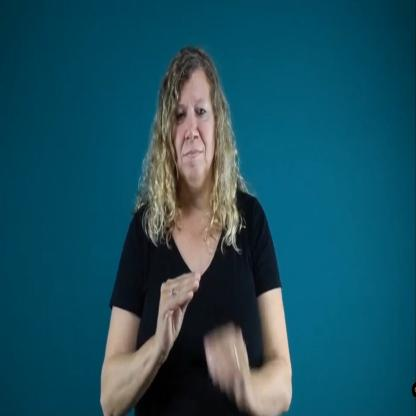Fix: (96, 38, 297, 416)
